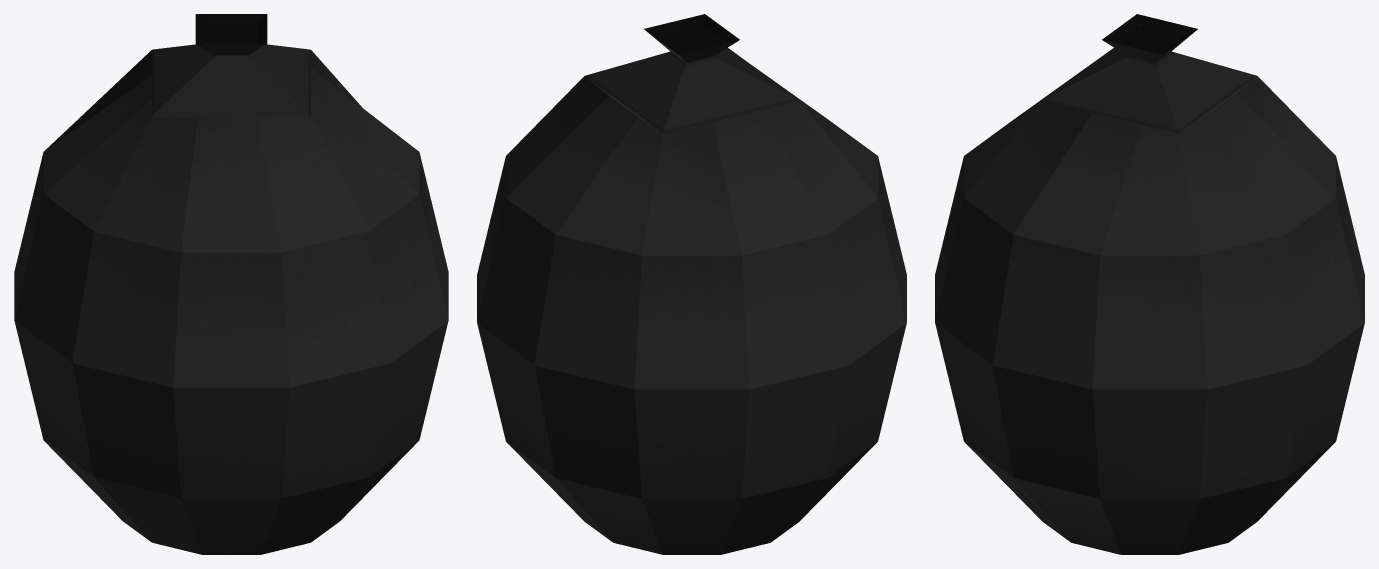
Rendered from TrashBag.obj.
3 views of the same model, side by side, from view 1: azimuth 30°, elevation 25°; view 2: azimuth 150°, elevation 25°; view 3: azimuth 270°, elevation 25° (orthographic).
Parts seen in each view (by area): view 1: sphere; view 2: sphere; view 3: sphere.
Boxes of the visible parts, x1,y1,x2,y2 form: sphere: (14, 14, 448, 554); sphere: (477, 14, 906, 554); sphere: (935, 14, 1364, 554).
Bounding box in the file's own units: 0.5 × 0.6519 × 0.5.
Materials: 1 (1 with a texture image).
